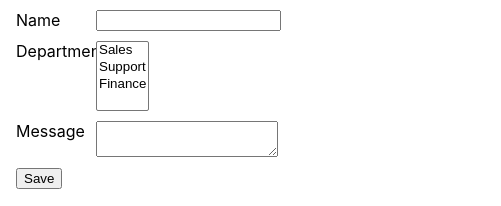
Test: Clicking submit button without filling in form renders name validation error
Step 1. Click the button "Save" → (39, 178), box [16, 168, 62, 189]
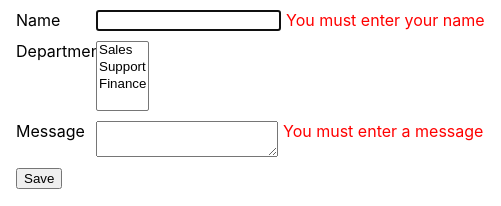
Expected: the text "You must enter your name" is shown, [286, 10, 485, 31]
